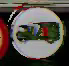Heavy Vehicles: (10, 12, 66, 65)
